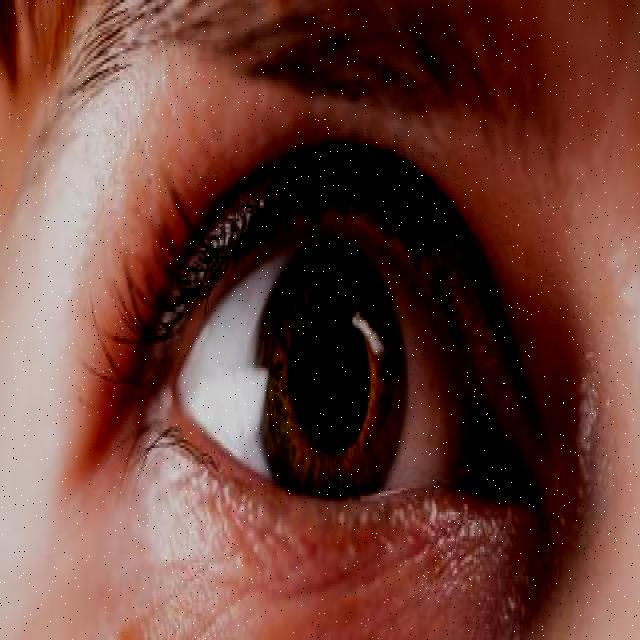Normal: (2, 136, 640, 574)
